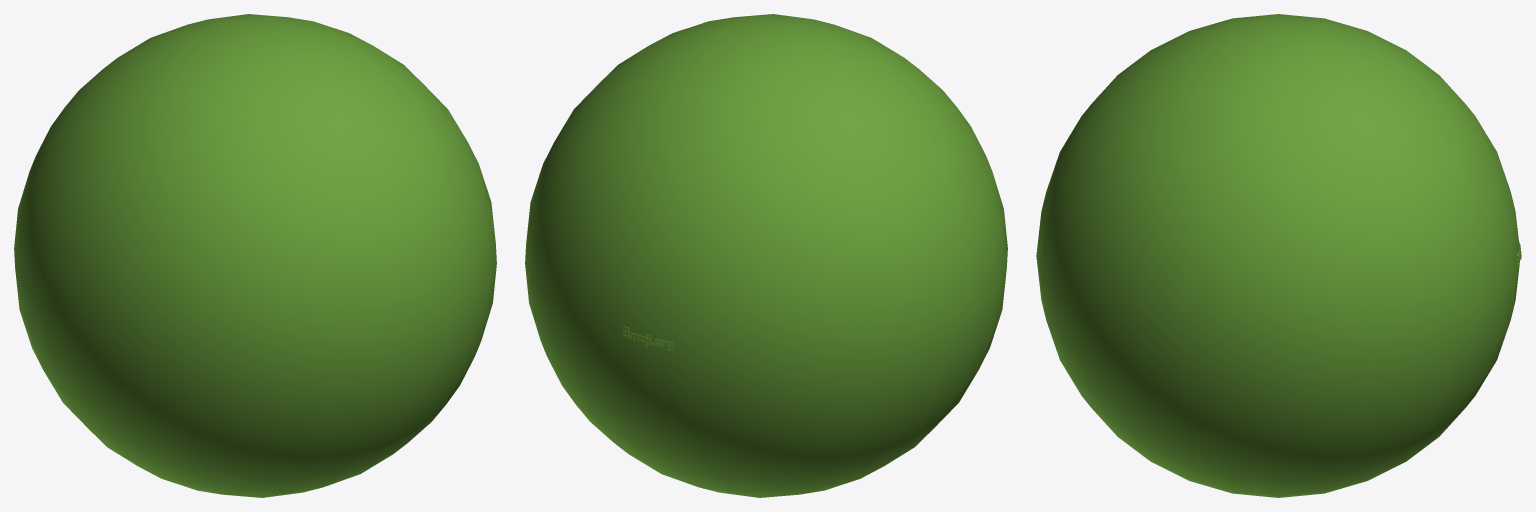
Rendered from green_circle.fbx.
The picture shows the model from 3 angles, left to right: view 1: azimuth 30°, elevation 25°; view 2: azimuth 150°, elevation 25°; view 3: azimuth 270°, elevation 25°; orthographic projection.
Visible parts, largest first — view 1: Cube.6665; view 2: Cube.6665; view 3: Cube.6665.
Boxes of the visible parts, left/top/right/bottom form: Cube.6665: left=14, top=14, right=496, bottom=497; Cube.6665: left=525, top=14, right=1007, bottom=497; Cube.6665: left=1036, top=14, right=1521, bottom=497.
Bounding box in the file's own units: 223 × 223 × 223.
1 material, 1 textured.
